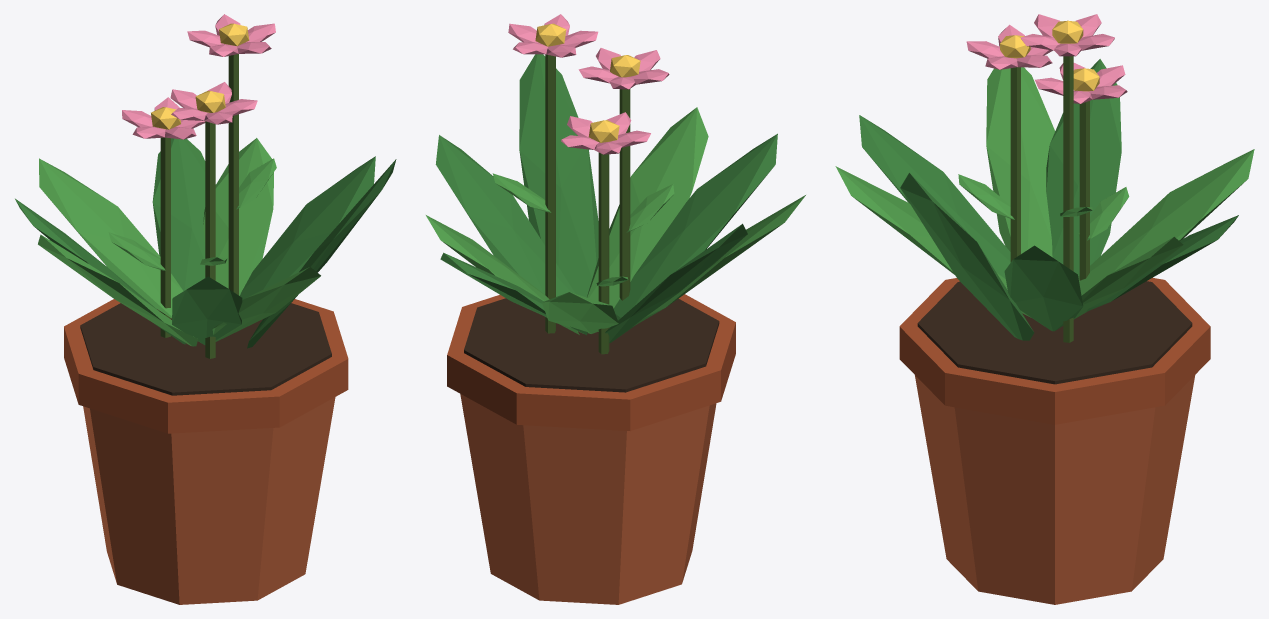
Rendered from plant.glb.
3 views of the same model, side by side, from view 1: azimuth 30°, elevation 25°; view 2: azimuth 150°, elevation 25°; view 3: azimuth 270°, elevation 25° (orthographic). The views are drawn at different scales.
Visible parts, largest first — view 1: Plant; view 2: Plant; view 3: Plant.
Boxes of the visible parts, left/top/right/bottom form: Plant: left=15, top=14, right=396, bottom=604; Plant: left=426, top=14, right=805, bottom=604; Plant: left=835, top=14, right=1254, bottom=604.
Bounding box in the file's own units: 0.5876 × 0.848 × 0.5796.
